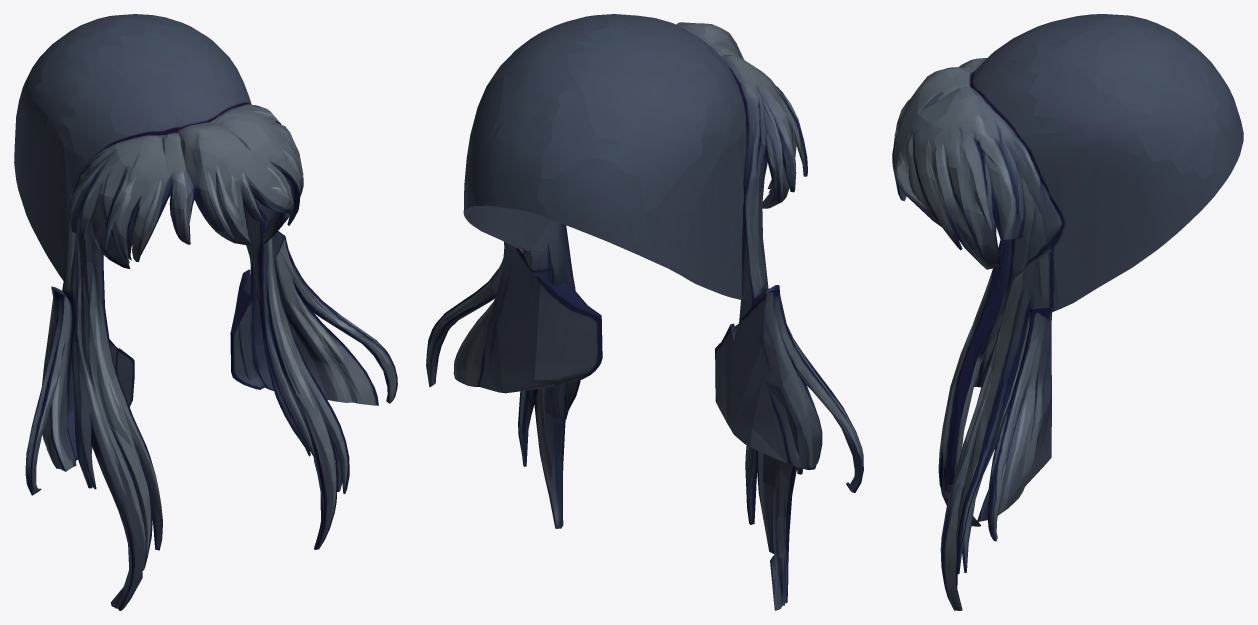
The model's file is nerith_f-meche-4-cheveux-longs-calotte.glb.
The picture shows the model from 3 angles, left to right: view 1: azimuth 30°, elevation 25°; view 2: azimuth 150°, elevation 25°; view 3: azimuth 270°, elevation 25°; orthographic projection. The views are drawn at different scales.
Visible parts, largest first — view 1: geometry_0; view 2: geometry_0; view 3: geometry_0.
Boxes of the visible parts, x1,y1,x2,y2 form: geometry_0: (14,14,397,610); geometry_0: (426,14,863,610); geometry_0: (892,14,1243,610).
Size of the model in its own units: 1.44 by 1.91 by 1.12.
1 material, 1 textured.
